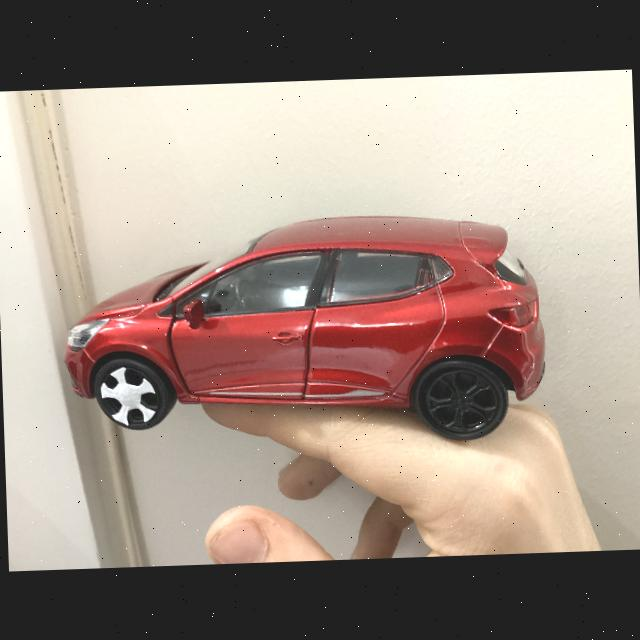Dogru_Jant: (426, 371, 496, 432)
Yanlis_Jant: (99, 366, 158, 428)
